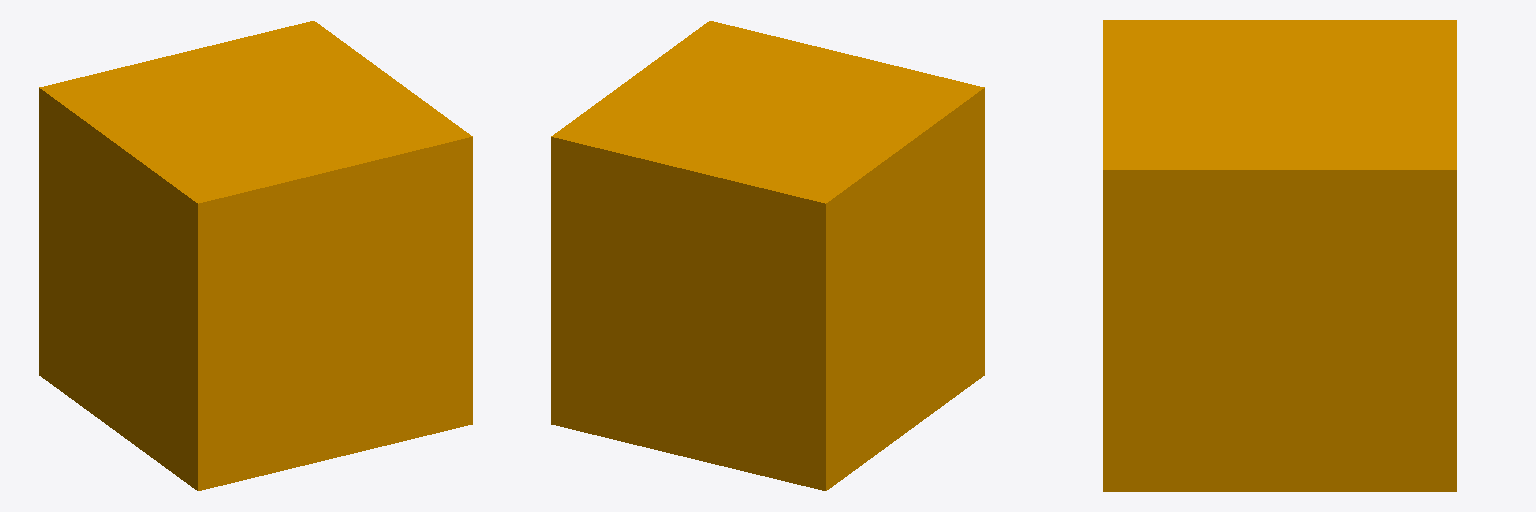
The robot description file, URDF, robot "block":
<robot name="block">
  <link name="toyblock">
    <inertial>
      <mass value="0.04" />
      <!-- center of mass (com) is defined w.r.t. link local coordinate system -->
      <!-- give a little y-offset to make the top precess -->
      <origin xyz="0 0 0" /> 
	<!--From Wikipedia Icm = ms^2/6 for side length s and mass m -->
      <inertia  ixx="0.000013" ixy="0.0"  ixz="0.0"  iyy="0.000013"  iyz="0.0"  izz="0.000013" />
    </inertial>
    <visual>
      <!-- visual origin is defined w.r.t. link local coordinate system -->
      <origin xyz="0 0 0" rpy="-1.5708 0 0" />
      <geometry>
        <box size="0.044 0.044 0.044"/>
      </geometry>
    </visual>
    <collision>
      <!-- collision origin is defined w.r.t. link local coordinate system -->
      <origin xyz="0 0 0" rpy="-1.5708 0 0" />
      <geometry>
        <box size="0.044 0.044 0.044"/>
      </geometry>
    </collision>
  </link>
  <gazebo reference="toyblock">
    <mu1>10</mu1>
    <mu2>10</mu2>
    <material>Gazebo/Blue</material>
  </gazebo>
</robot>

--- Facts derived from the render (not from the file) ---
Views: 3 orthographic renders of the robot side by side, from view 1: azimuth 30°, elevation 25°; view 2: azimuth 150°, elevation 25°; view 3: azimuth 270°, elevation 25°.
Robot: block — 1 links, 0 joints (none); root link toyblock; default pose: all joints at 0.
Links seen in each view (by area): view 1: toyblock; view 2: toyblock; view 3: toyblock.
Boxes of the visible links, x1,y1,x2,y2 form: toyblock: [39, 21, 472, 490]; toyblock: [551, 21, 984, 490]; toyblock: [1103, 20, 1456, 491].
Bounding box of the posed robot: 0.044 × 0.044 × 0.044 m (x, y, z).
Geometry: primitives only (box / cylinder / sphere), no mesh files.